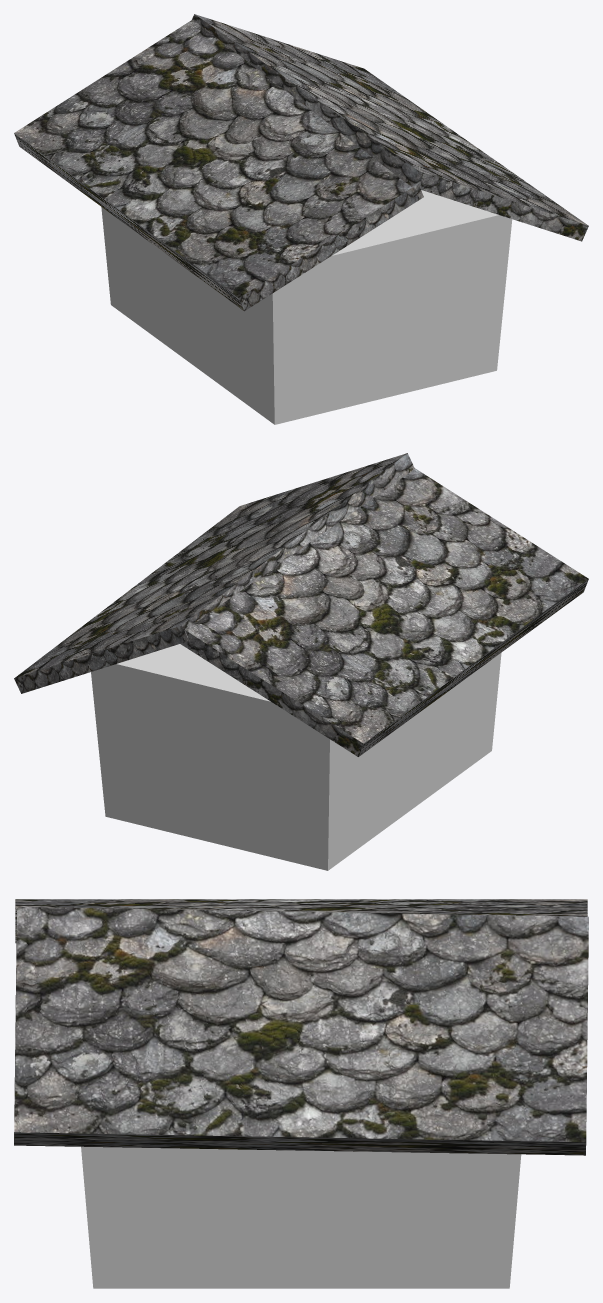
Rendered from hut.glb.
3 renders of one model, top to bottom at view 1: azimuth 30°, elevation 25°; view 2: azimuth 150°, elevation 25°; view 3: azimuth 270°, elevation 25°, orthographic. The views are drawn at different scales.
Parts seen in each view (by area): view 1: _cs_rs_roof, _cs_mat-wooddark; view 2: _cs_rs_roof, _cs_mat-wooddark; view 3: _cs_rs_roof, _cs_mat-wooddark.
Boxes of the visible parts, x1=… form: _cs_rs_roof: x1=14, y1=14, x2=588, y2=311; _cs_mat-wooddark: x1=101, y1=190, x2=512, y2=424; _cs_rs_roof: x1=14, y1=453, x2=588, y2=756; _cs_mat-wooddark: x1=91, y1=644, x2=501, y2=870; _cs_rs_roof: x1=14, y1=899, x2=588, y2=1155; _cs_mat-wooddark: x1=81, y1=1146, x2=521, y2=1288.
Size of the model in its own units: 3.65 by 2.47 by 4.09.
Materials: 1 (1 with a texture image).
